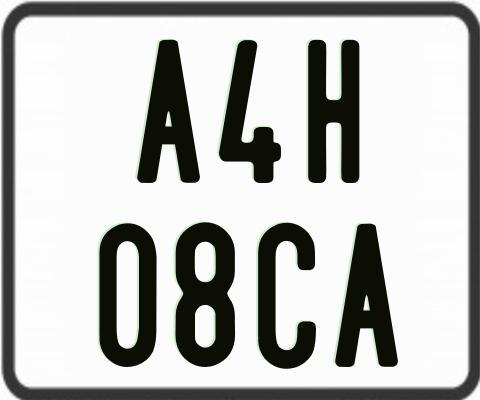0: (96, 222, 155, 371)
4: (219, 39, 286, 183)
8: (174, 221, 239, 372)
A: (137, 39, 204, 187), (333, 224, 399, 368)
C: (257, 221, 317, 368)
H: (305, 39, 361, 187)
